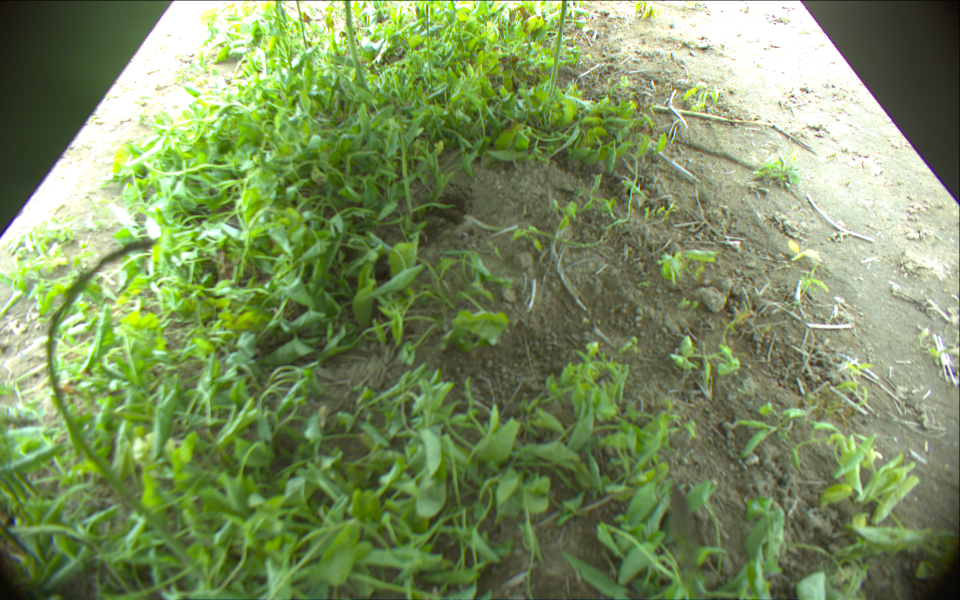aspa: (46, 239, 210, 574), (646, 100, 815, 153), (388, 96, 413, 213), (341, 1, 370, 88), (547, 1, 569, 100), (423, 5, 436, 90), (294, 1, 310, 53)
